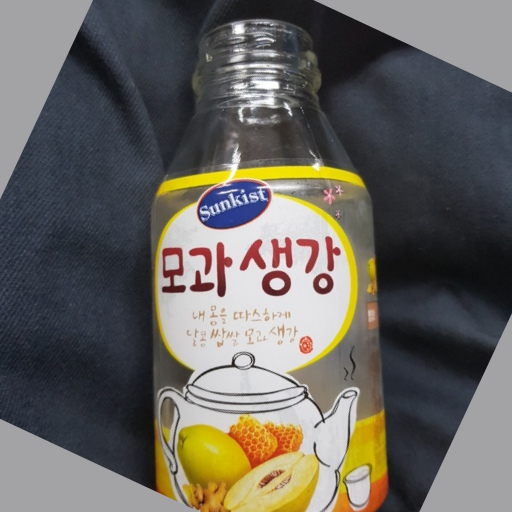Glass_4: (141, 21, 397, 512)
